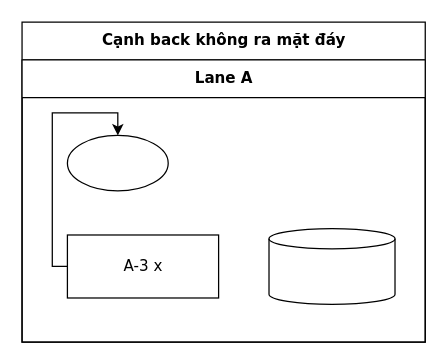
Image size: 447x364. Some labels were removed from this diagram. The centre of each missing label's shape, as x and y in pixels:
"A-1 x" belongs at (x=117, y=162).
"d0" belongs at (x=331, y=265).
